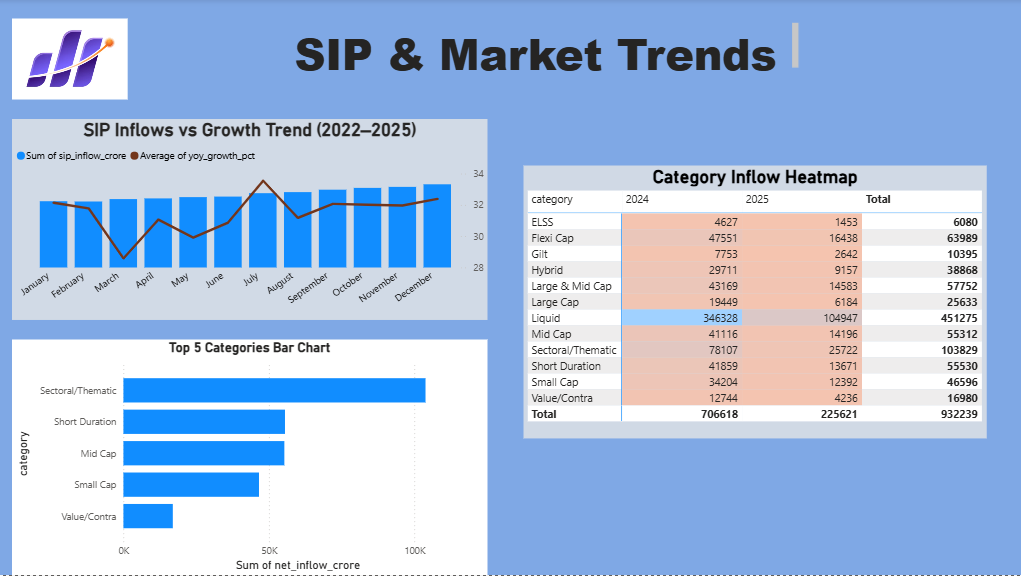

What the dashboard file says about the page in this screenshot:
{"tool":"powerbi","page":{"name":"SIP & Market Trends","canvas":[1280,720],"ordinal":3},"visuals":[{"type":"lineClusteredColumnComboChart","title":"SIP Inflows vs Growth Trend (2022–2025)","fields":{"Y":["Sum(04_monthly_sip_inflows.sip_inflow_crore)"],"Y2":["Avg(04_monthly_sip_inflows.yoy_growth_pct)"],"Category":["04_monthly_sip_inflows.month.Variation.Date Hierarchy.Month"]},"box":[15,150.1,594.7,251.4],"z":4000},{"type":"pivotTable","title":"Category Inflow Heatmap","fields":{"Values":["Sum(05_category_inflows.net_inflow_crore)"],"Rows":["05_category_inflows.category"],"Columns":["05_category_inflows.month.Variation.Date Hierarchy.Year"]},"box":[654.7,208.2,579.7,341.4],"z":5000},{"type":"textbox","box":[343.3,24.4,660.3,75],"z":6000},{"type":"image","box":[15,24.4,144.4,101.3],"z":7000},{"type":"barChart","title":"Top 5 Categories Bar Chart","fields":{"Category":["05_category_inflows.category"],"Y":["Sum(05_category_inflows.net_inflow_crore)"]},"box":[15,425.8,594.7,294.5],"z":7001}]}

Visuals, with their boxes in screenshot pixels (x1, y1, x2, y2), scaled from the page's 1280x720 canvas onto the 1021x576 screenshot:
"SIP Inflows vs Growth Trend (2022–2025)" lineClusteredColumnComboChart: <box>12,120,486,321</box>
"Category Inflow Heatmap" pivotTable: <box>522,167,985,440</box>
textbox: <box>274,20,801,80</box>
image: <box>12,20,127,101</box>
"Top 5 Categories Bar Chart" barChart: <box>12,341,486,575</box>
